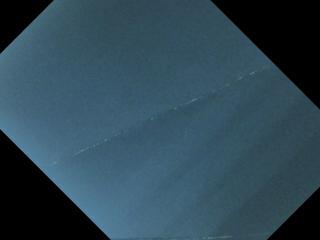crack: (39, 62, 274, 174), (109, 232, 275, 240)
